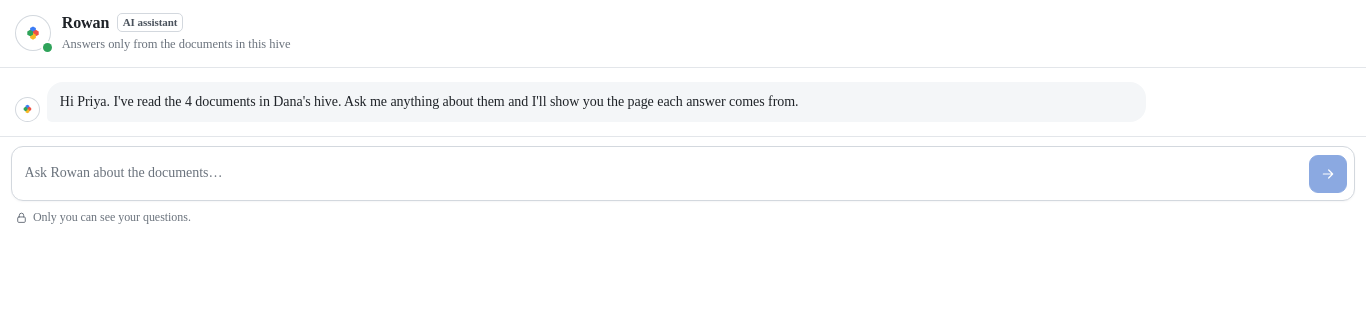
AskChat › sends on Enter, keeps Shift+Enter for a new line, and clears the composer
Type "Line one" into the text box named "Question for Rowan" at (663, 174), box [25,155,1302,193]
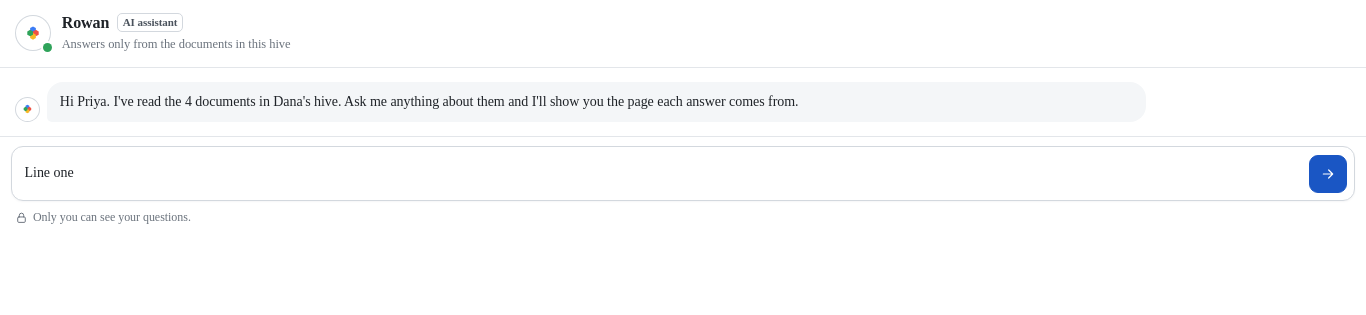
Press Enter in the text box named "Question for Rowan", box [25,155,1302,193]
Press Enter in the text box named "Question for Rowan", box [25,155,1302,193]
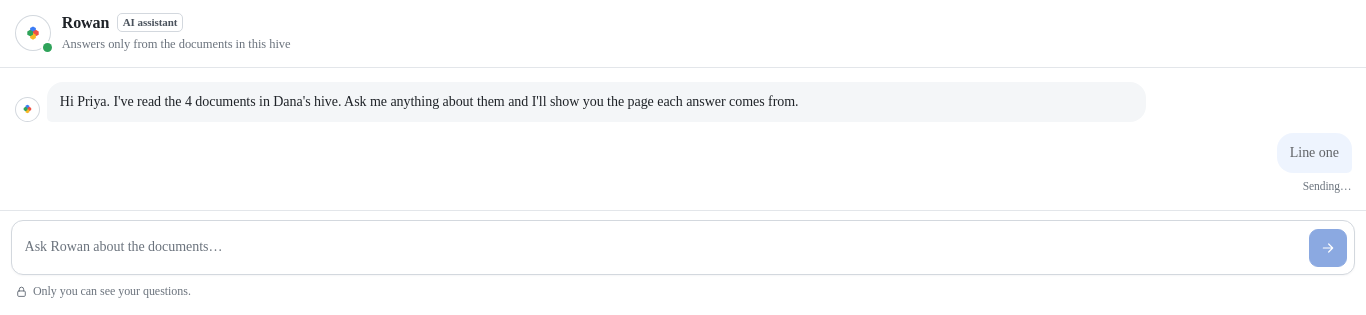
Expected: the text "Line one" is shown, [1277,133,1352,173]
Expected: the text box named "Question for Rowan" is empty, [25,229,1302,267]
